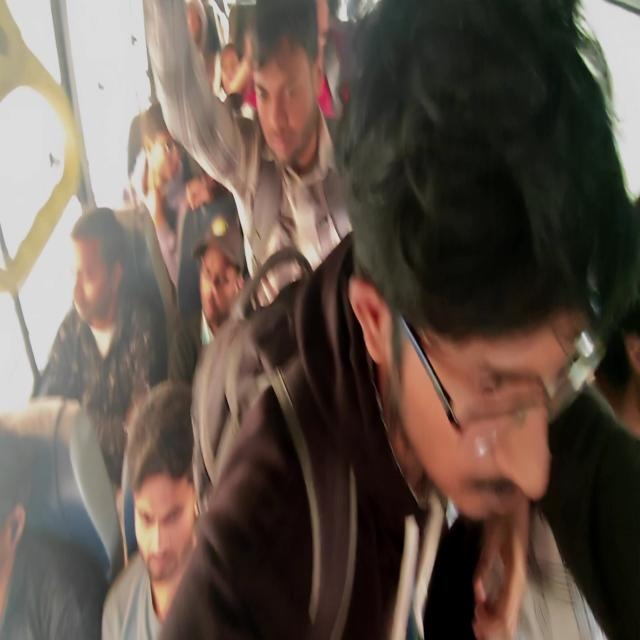person: (370, 14, 561, 530), (251, 20, 337, 182), (129, 399, 193, 562), (70, 219, 135, 331), (136, 111, 197, 214), (193, 224, 245, 331), (0, 401, 31, 571), (202, 108, 240, 202), (169, 0, 213, 58), (218, 41, 245, 97)
